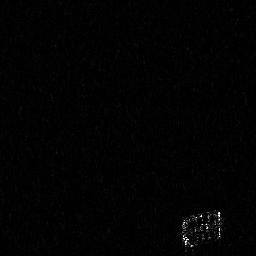ship: (179, 207, 223, 252)
